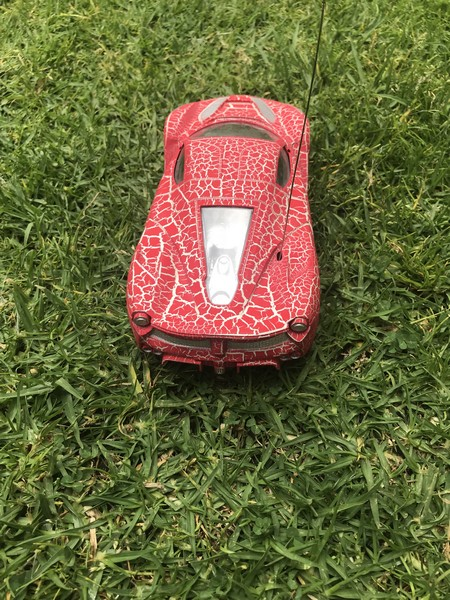RC: (125, 92, 323, 378)
